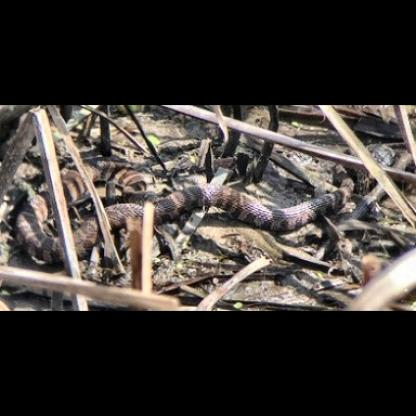Snake: (6, 141, 411, 268)
